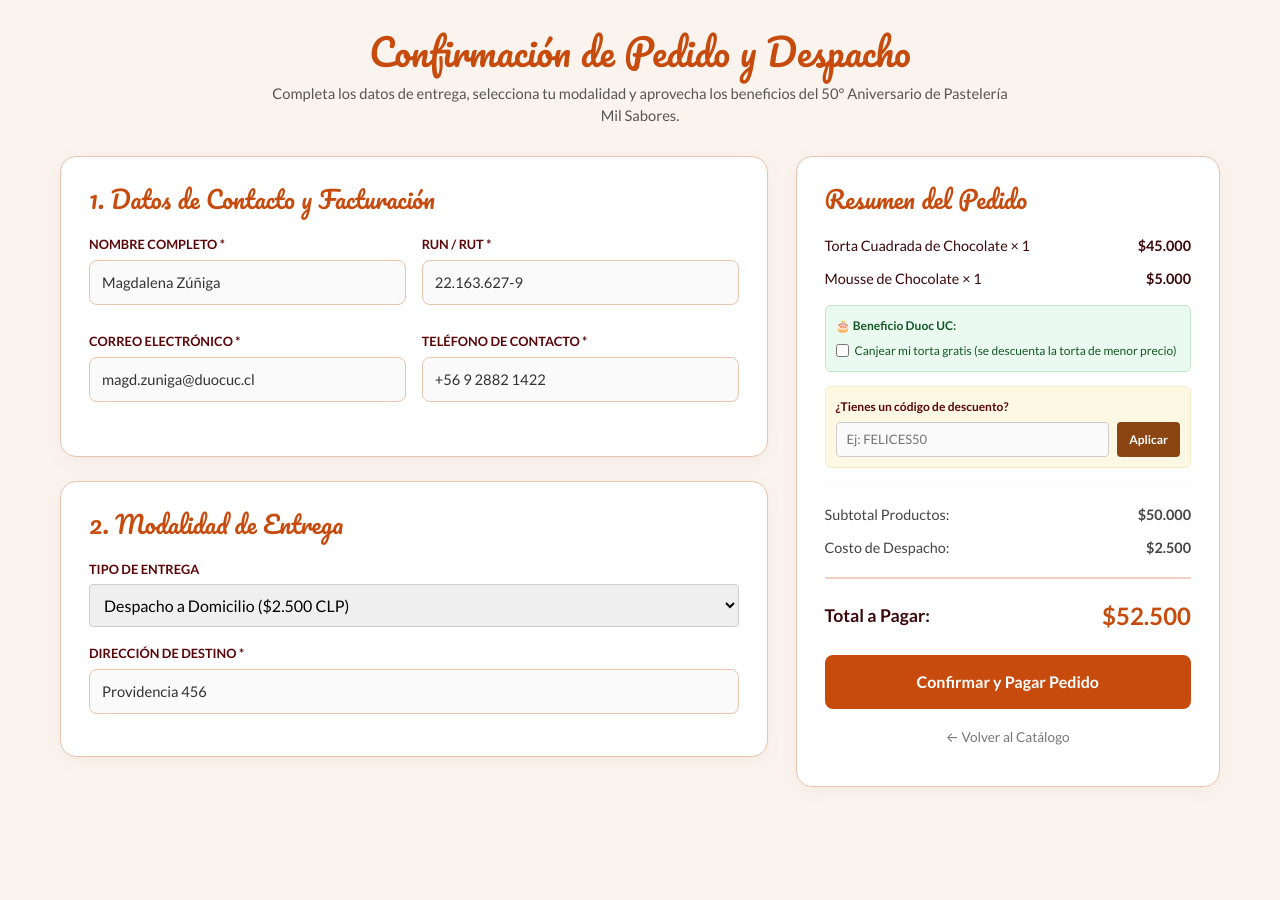
Scenario: Torta gratis Duoc UC - una vez por año › Debe descontar la torta al marcar la casilla
This screenshot has width=1280, height=900.
Click the checkbox labelled "Canjear mi torta gratis": (842, 351) [836,344,848,358]
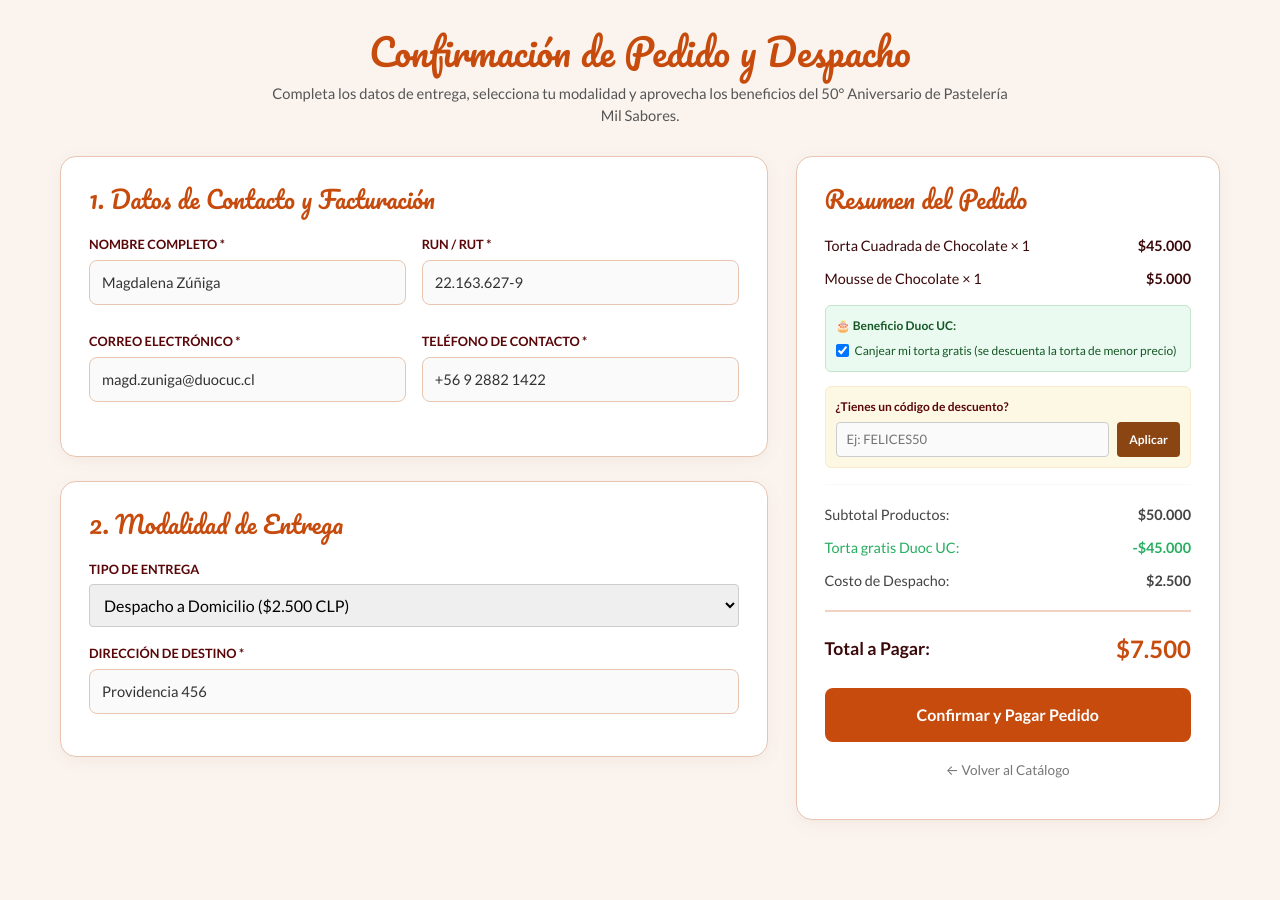
Check: the text "$7.500" is shown, box [1116,630,1191,668]
